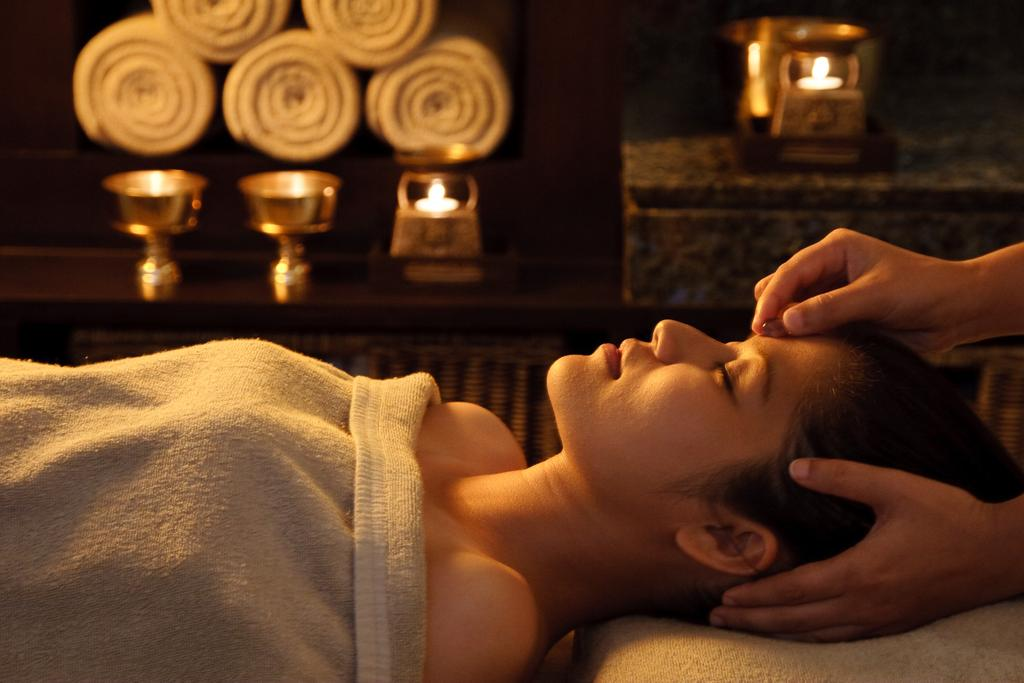face: (542, 316, 848, 474)
